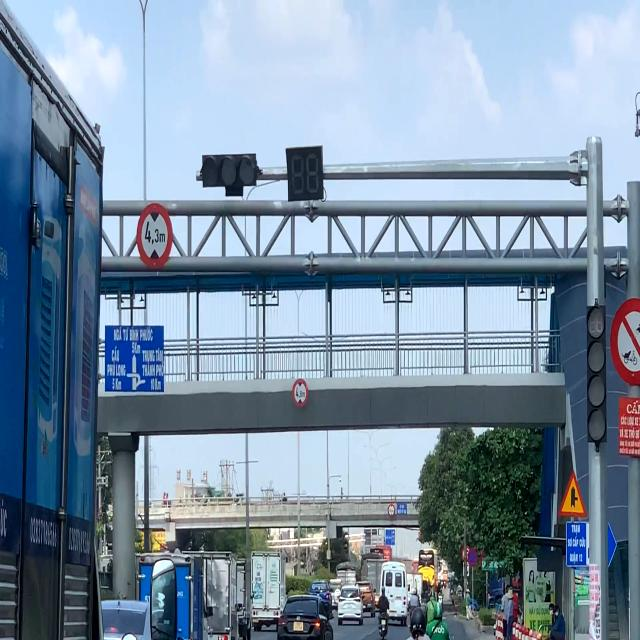P.117: (137, 202, 173, 268), (292, 378, 308, 408), (388, 504, 395, 517)
P.130: (468, 548, 478, 567)
W.207b: (558, 470, 588, 517)
